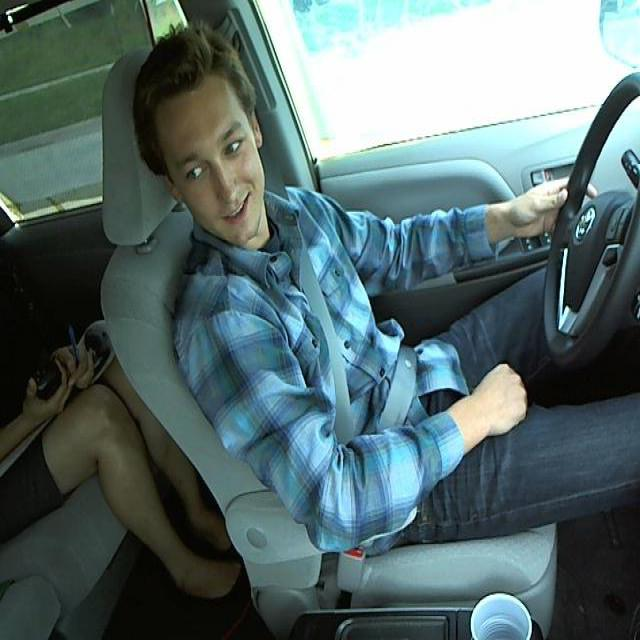seatbelt: (294, 240, 418, 441)
